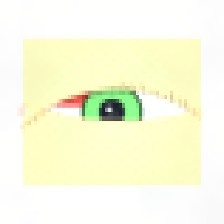hemorrhage_spot: (38, 63, 128, 135)
